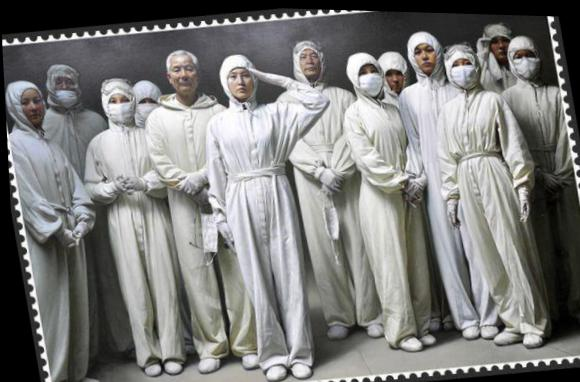NONE: (167, 59, 199, 96), (16, 92, 45, 125), (225, 69, 254, 98), (412, 39, 439, 70), (488, 33, 513, 58), (298, 49, 322, 75), (384, 65, 405, 90)
OK: (355, 62, 387, 96), (510, 48, 541, 78), (105, 93, 135, 124), (449, 55, 478, 86), (134, 95, 158, 120)
WRONG: (49, 75, 81, 106)
